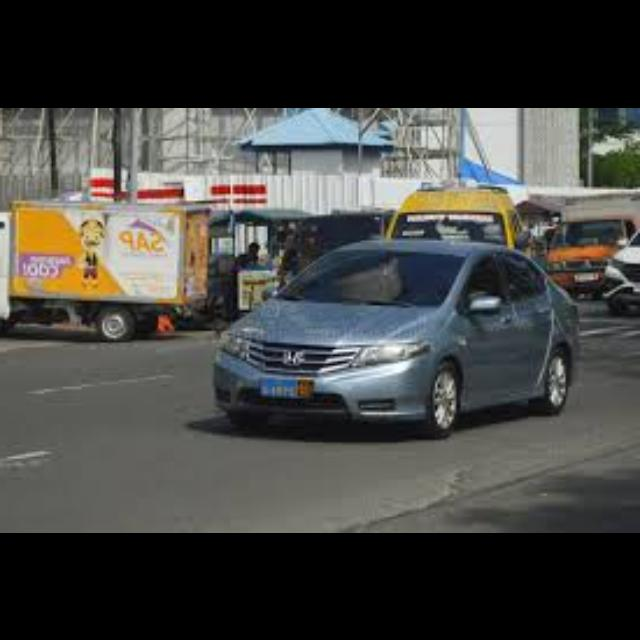vehicles: (216, 235, 582, 435)
